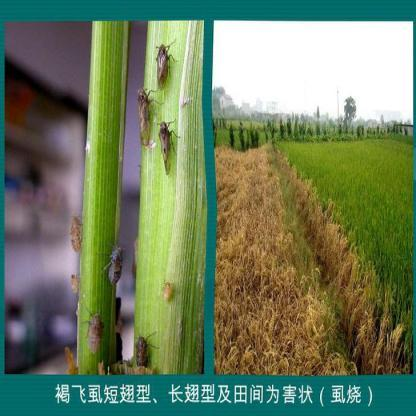brown-planthopper: (156, 121, 178, 175), (134, 86, 152, 148), (154, 41, 173, 92), (107, 244, 124, 288), (89, 312, 104, 354), (134, 332, 150, 368), (68, 217, 82, 252), (69, 273, 80, 295), (162, 280, 172, 300)
